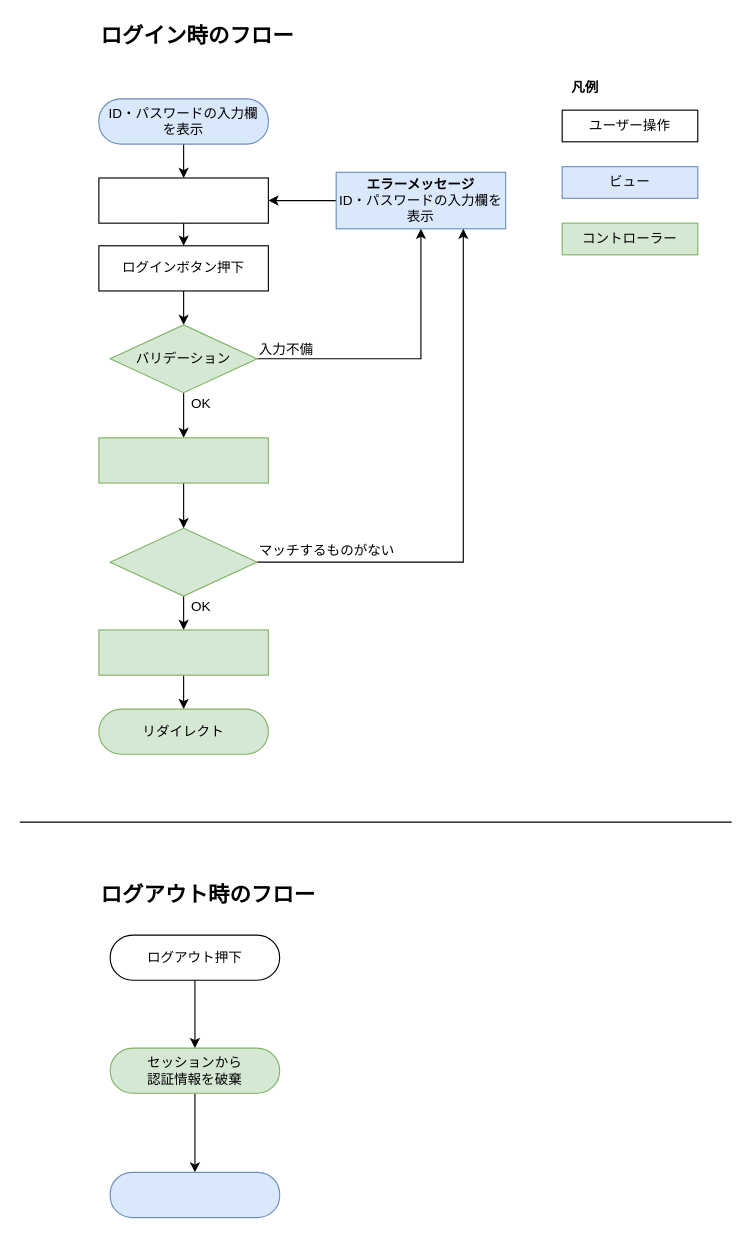
Some shapes in this 753 by 1237 pixel diagram are drawn without their labels. Each missing label, with the box of its shape:
DB内のID・パスワードと照合: (98, 437, 268, 483)
IDとパスワードを入力: (98, 177, 268, 223)
セッションにログイン認証情報を格納: (98, 629, 268, 675)
マッチする？: (109, 527, 257, 596)
ログイン画面を表示: (109, 1171, 280, 1218)
